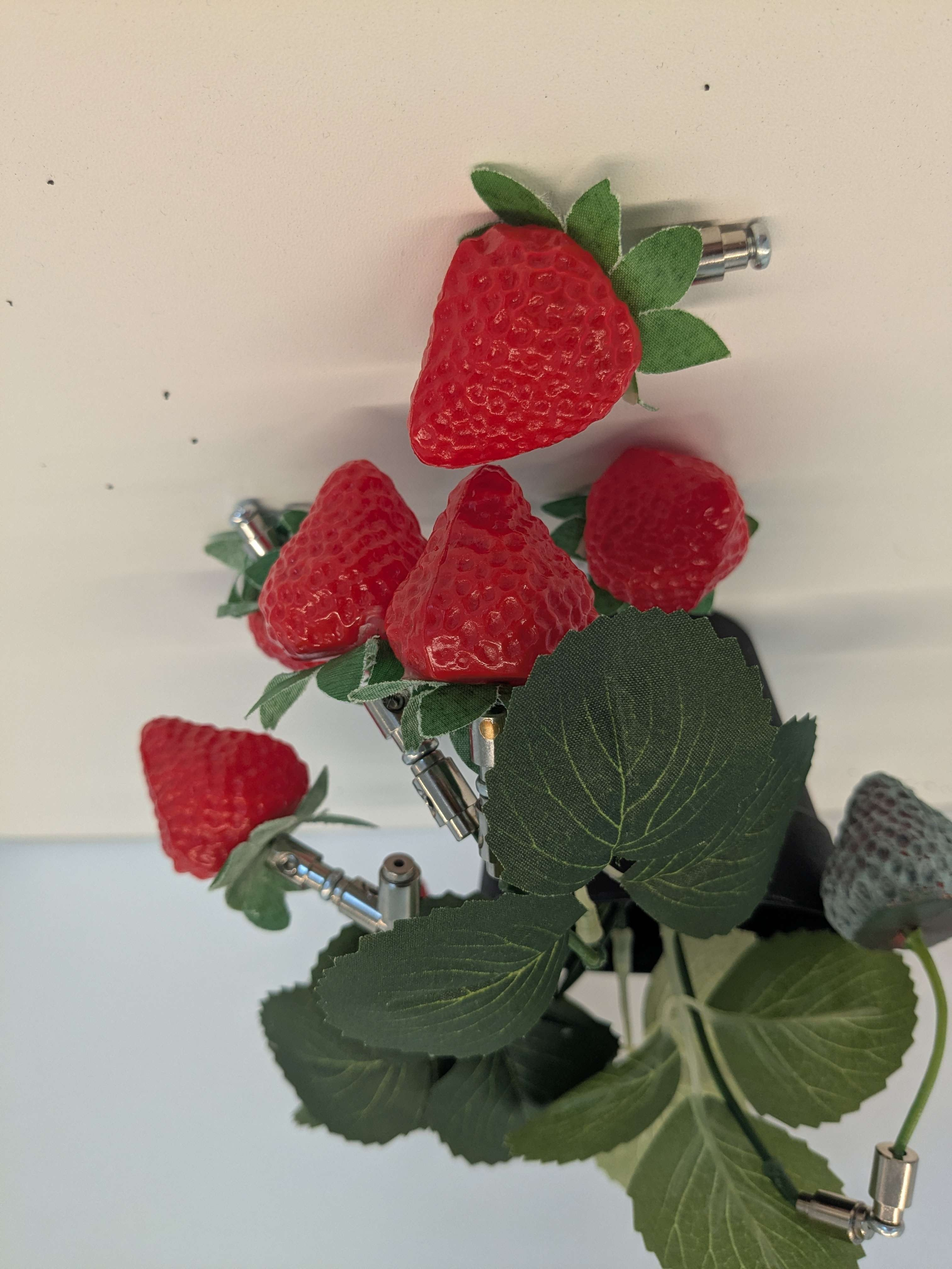Strawberry: (400, 209, 660, 484), (380, 462, 598, 693), (101, 710, 335, 914), (256, 447, 439, 688), (578, 442, 772, 608)
